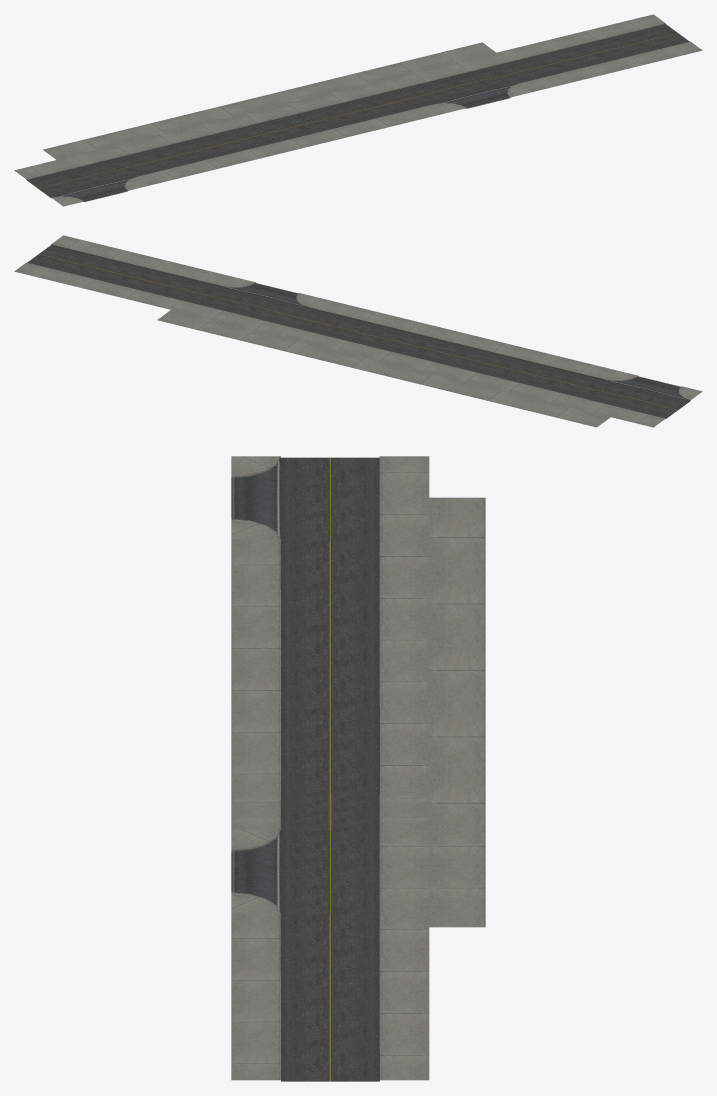
The model's file is vegasnroadsp08203.obj.
The picture shows the model from 3 angles, top to bottom: view 1: azimuth 30°, elevation 25°; view 2: azimuth 150°, elevation 25°; view 3: azimuth 270°, elevation 25°; orthographic projection. The views are drawn at different scales.
Parts seen in each view (by area): view 1: VegasNroadsp08203; view 2: VegasNroadsp08203; view 3: VegasNroadsp08203.
Part boxes in pixels (x1=…): VegasNroadsp08203: x1=14, y1=14, x2=702, y2=206; VegasNroadsp08203: x1=14, y1=235, x2=702, y2=427; VegasNroadsp08203: x1=231, y1=456, x2=485, y2=1081.
Bounding box in the file's own units: 149 × 0.2216 × 25.7.
Materials: 3 (3 with a texture image).
